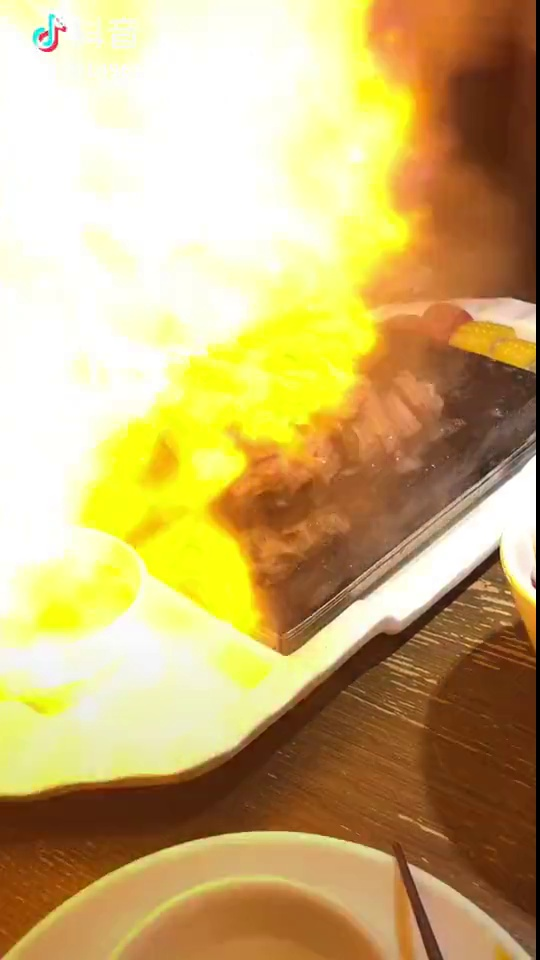fire: (6, 91, 233, 684)
